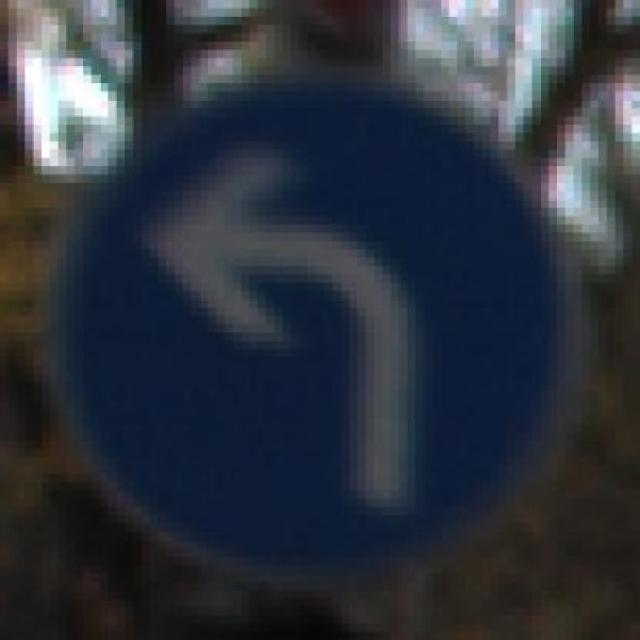Turn left ahead: (58, 50, 590, 582)
